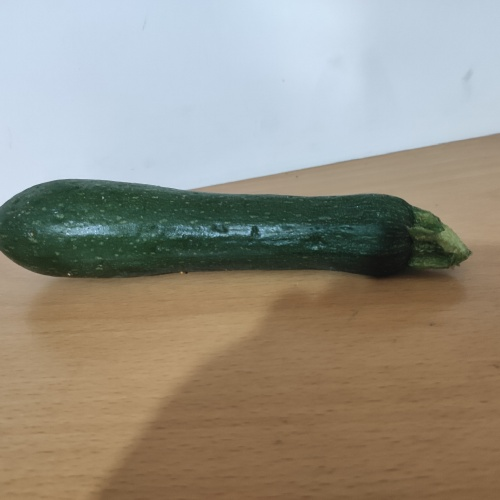zucchine: (22, 176, 476, 297)
